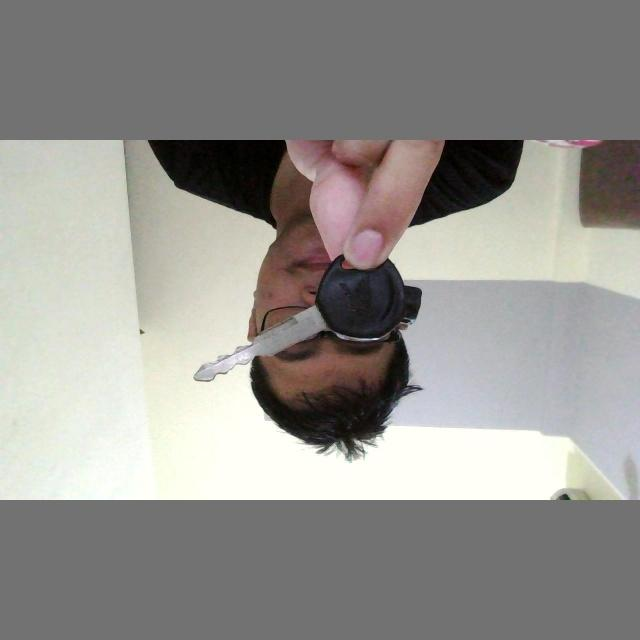Keys: (193, 238, 427, 406)
